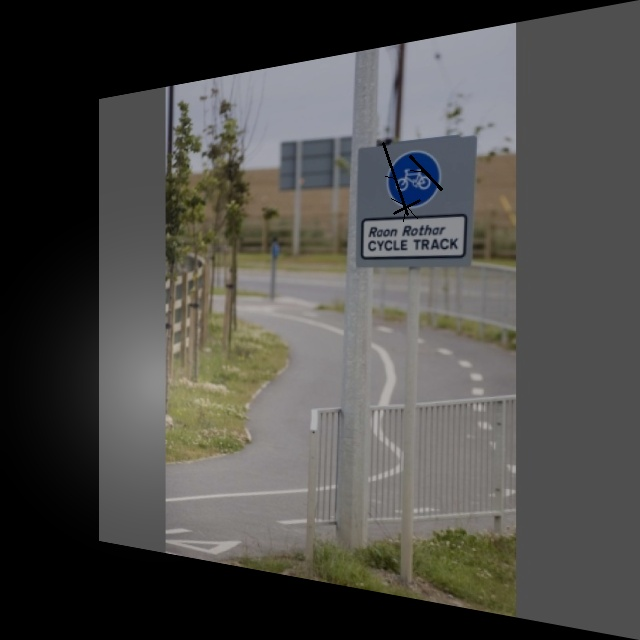Compulsory_Cycle_Track: (381, 143, 446, 215)
